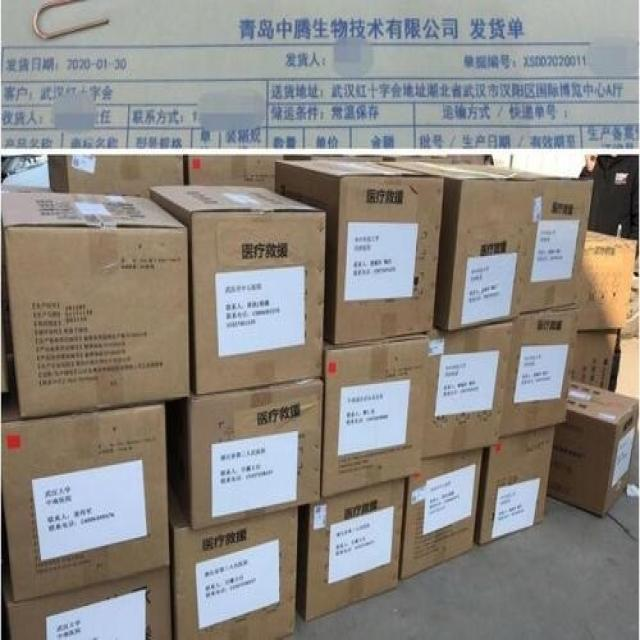box: (0, 194, 189, 418), (147, 185, 325, 395), (1, 390, 170, 603), (275, 159, 445, 345), (390, 160, 535, 331), (456, 160, 594, 316), (188, 379, 323, 531), (323, 332, 430, 499), (168, 507, 297, 640), (305, 478, 404, 622), (1, 564, 172, 640), (421, 322, 512, 460), (548, 379, 639, 517), (402, 447, 483, 580), (499, 308, 579, 437), (479, 425, 556, 546), (577, 230, 637, 331), (49, 156, 184, 194), (188, 156, 283, 190), (572, 329, 617, 389)
